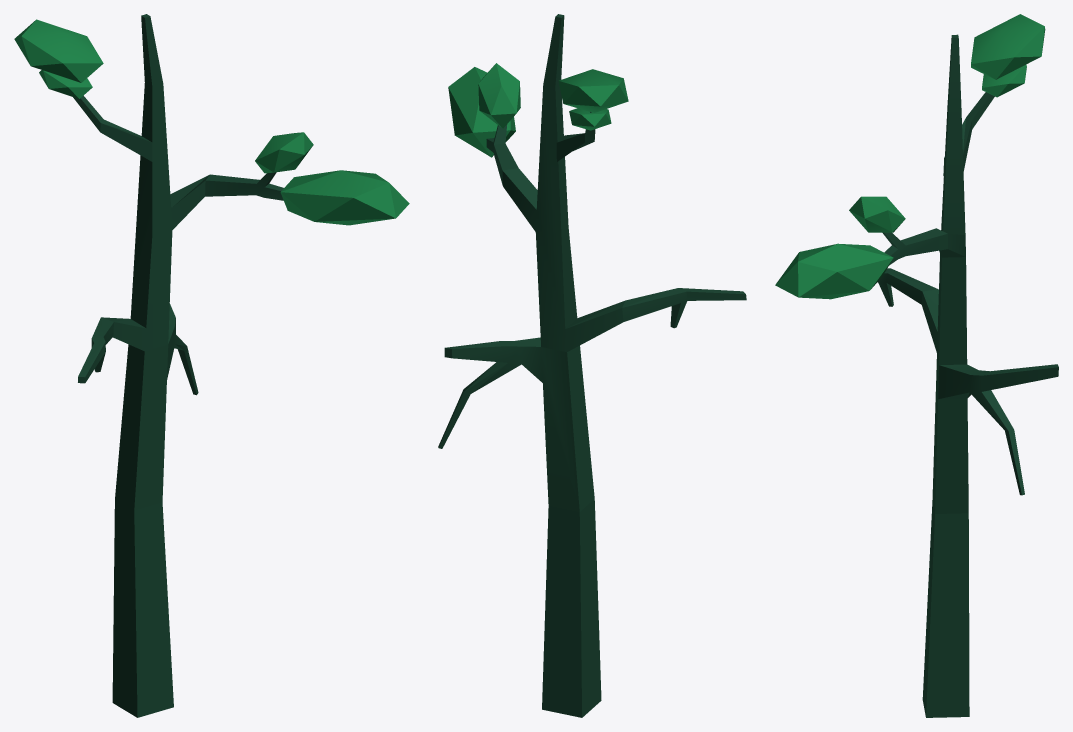
File: spring_tree_1.fbx
The picture shows the model from 3 angles, left to right: view 1: azimuth 30°, elevation 25°; view 2: azimuth 150°, elevation 25°; view 3: azimuth 270°, elevation 25°; orthographic projection. The views are drawn at different scales.
Parts seen in each view (by area): view 1: TREE.001, TREE.006, TREE.002, TREE.005, TREE.004, TREE.003; view 2: TREE.006, TREE.001, TREE.005, TREE.002, TREE.004, TREE.003; view 3: TREE.001, TREE.005, TREE.006, TREE.002, TREE.004, TREE.003.
Boxes of the visible parts, x1=… form: TREE.001: x1=112, y1=499, x2=173, y2=717; TREE.006: x1=101, y1=14, x2=209, y2=351; TREE.002: x1=205, y1=132, x2=409, y2=225; TREE.005: x1=115, y1=303, x2=198, y2=510; TREE.004: x1=14, y1=19, x2=152, y2=161; TREE.003: x1=78, y1=317, x2=113, y2=383; TREE.006: x1=502, y1=14, x2=624, y2=352; TREE.001: x1=542, y1=499, x2=601, y2=717; TREE.005: x1=438, y1=337, x2=594, y2=511; TREE.002: x1=448, y1=63, x2=520, y2=185; TREE.004: x1=556, y1=69, x2=628, y2=161; TREE.003: x1=622, y1=288, x2=746, y2=328; TREE.001: x1=922, y1=500, x2=969, y2=717; TREE.005: x1=932, y1=354, x2=1058, y2=513; TREE.006: x1=921, y1=34, x2=967, y2=365; TREE.002: x1=775, y1=196, x2=947, y2=299; TREE.004: x1=943, y1=14, x2=1045, y2=176; TREE.003: x1=878, y1=268, x2=937, y2=306.
Bounding box in the file's own units: 10.78 × 22.66 × 8.63.
